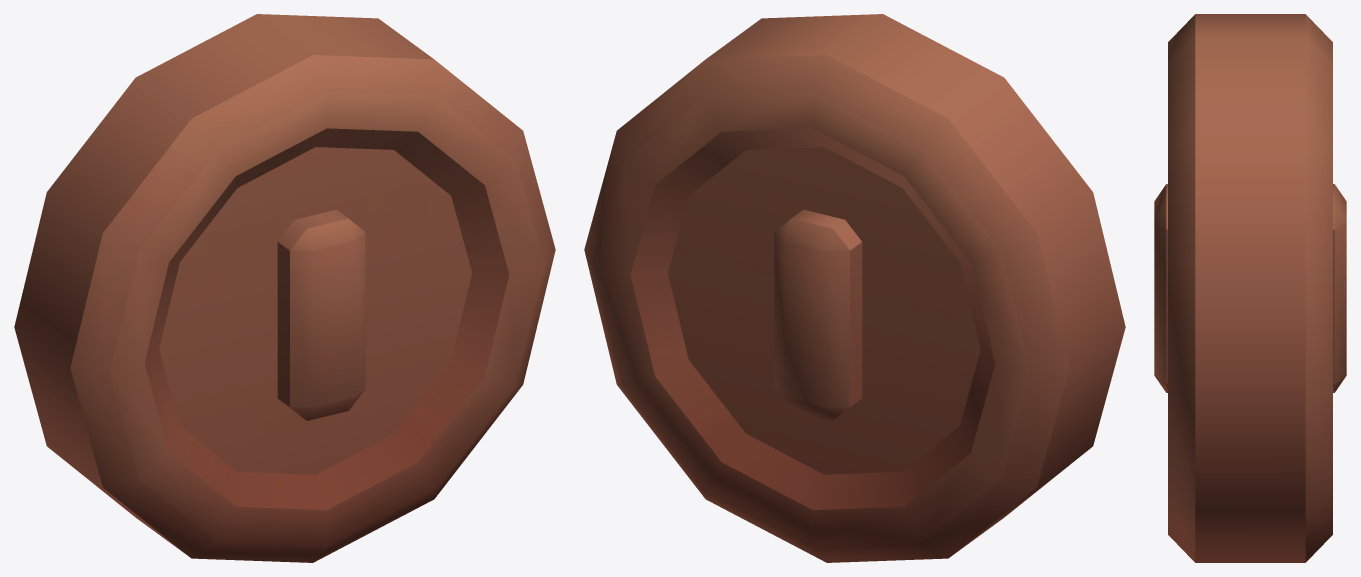
File: coin-c.glb
The picture shows the model from 3 angles, left to right: view 1: azimuth 30°, elevation 25°; view 2: azimuth 150°, elevation 25°; view 3: azimuth 270°, elevation 25°; orthographic projection.
Parts seen in each view (by area): view 1: Coin_C; view 2: Coin_C; view 3: Coin_C.
Part boxes in pixels (x1=…): Coin_C: x1=14, y1=14, x2=555, y2=562; Coin_C: x1=584, y1=14, x2=1125, y2=562; Coin_C: x1=1154, y1=14, x2=1346, y2=562.
Bounding box in the file's own units: 1 × 1 × 0.3492.
Materials: 1 (1 with a texture image).
